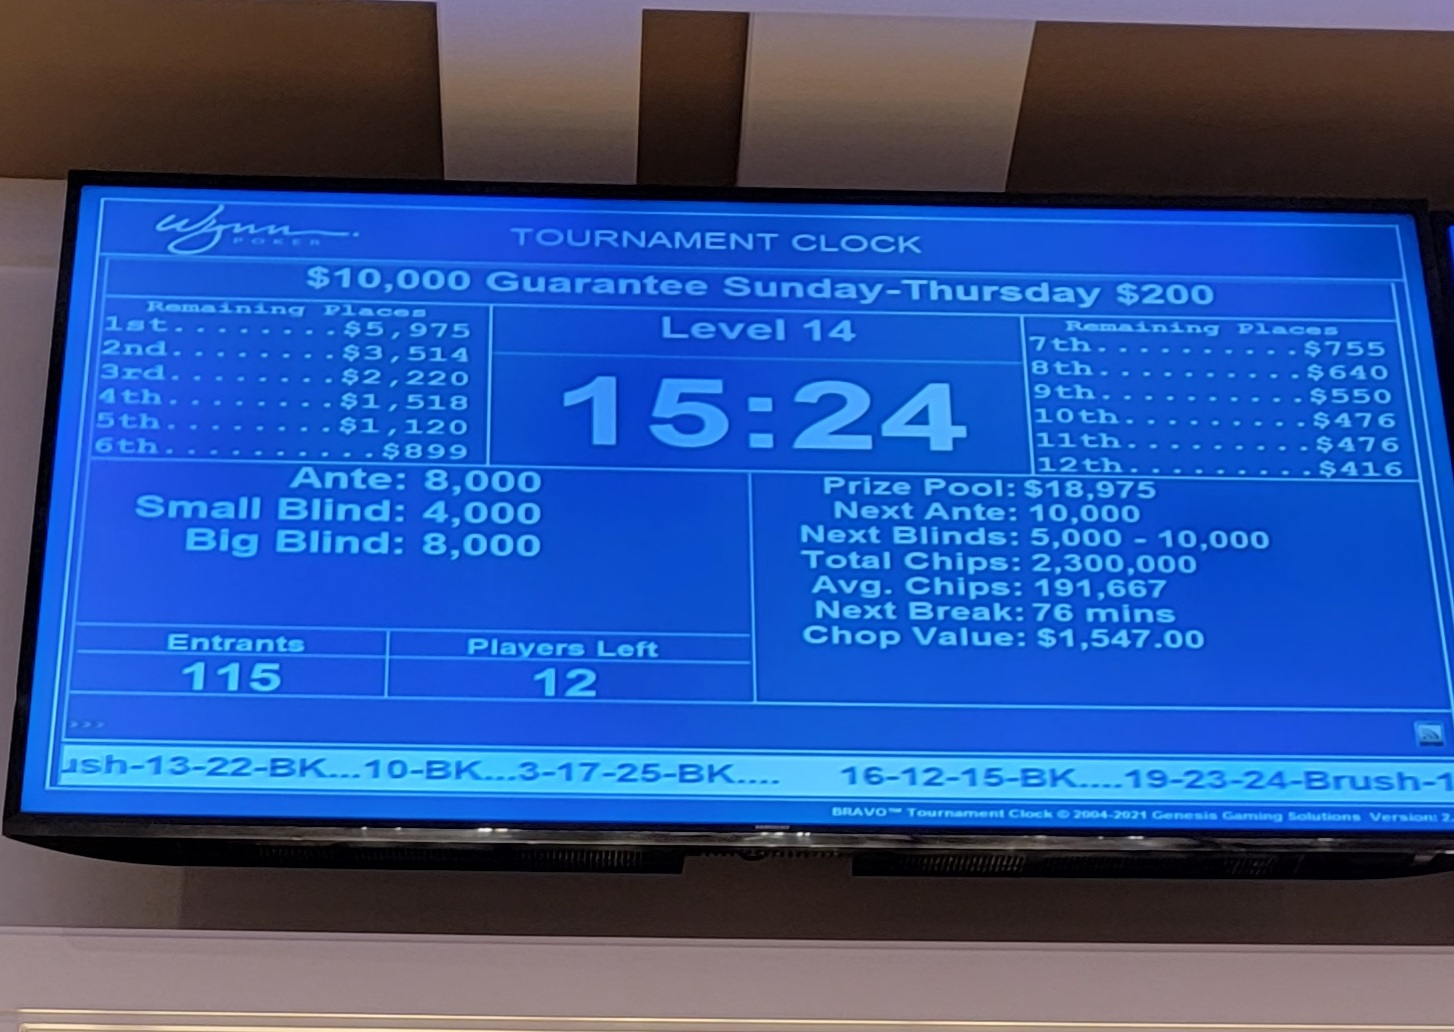Players Left: (372, 625, 759, 707)
Remaining: (90, 287, 491, 466), (1014, 313, 1427, 480)
TournamentClock: (47, 170, 1454, 825)
